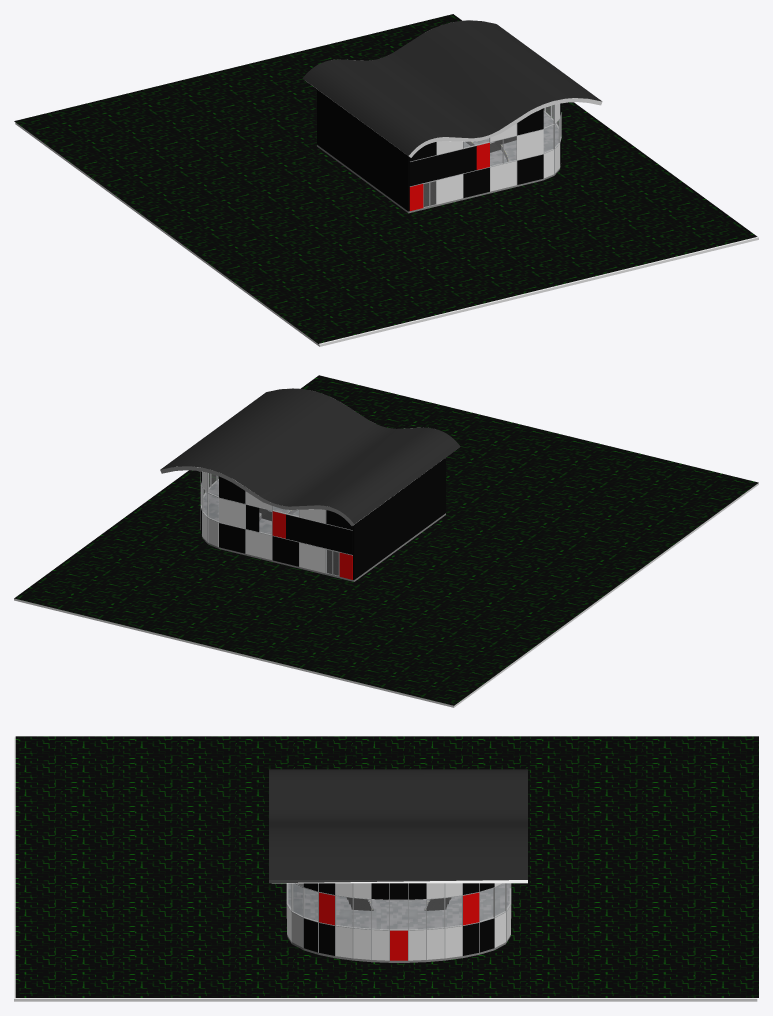
3 renders of one model, top to bottom at view 1: azimuth 30°, elevation 25°; view 2: azimuth 150°, elevation 25°; view 3: azimuth 270°, elevation 25°, orthographic. The views are drawn at different scales.
Parts seen in each view (by area): view 1: plato.001_265, Roofs_273, Curtain Panels_113, Walls_287, plato_264, Curtain Wall Mullions_259, Floors_266, Runs_279; view 2: plato.001_265, Roofs_273, Curtain Panels_113, Walls_287, plato_264, Curtain Wall Mullions_259, Floors_266; view 3: plato.001_265, Roofs_273, Curtain Panels_113, Landings_268, plato_264, Curtain Wall Mullions_259, Runs_279, Floors_266, Mass_271.
Part boxes in pixels (x1=…): plato.001_265: x1=14, y1=14, x2=757, y2=343; Roofs_273: x1=302, y1=20, x2=602, y2=157; Curtain Panels_113: x1=409, y1=103, x2=561, y2=210; Walls_287: x1=317, y1=89, x2=409, y2=211; plato_264: x1=15, y1=15, x2=758, y2=346; Curtain Wall Mullions_259: x1=409, y1=104, x2=561, y2=198; Floors_266: x1=317, y1=145, x2=561, y2=213; Runs_279: x1=463, y1=138, x2=516, y2=166; plato.001_265: x1=14, y1=375, x2=758, y2=705; Roofs_273: x1=160, y1=388, x2=460, y2=525; Curtain Panels_113: x1=201, y1=471, x2=352, y2=579; Walls_287: x1=353, y1=458, x2=445, y2=579; plato_264: x1=14, y1=375, x2=758, y2=707; Curtain Wall Mullions_259: x1=200, y1=472, x2=352, y2=576; Floors_266: x1=202, y1=513, x2=445, y2=581; plato.001_265: x1=15, y1=736, x2=758, y2=997; Roofs_273: x1=269, y1=769, x2=527, y2=883; Curtain Panels_113: x1=287, y1=883, x2=510, y2=960; Landings_268: x1=288, y1=896, x2=509, y2=929; plato_264: x1=14, y1=737, x2=757, y2=1001; Curtain Wall Mullions_259: x1=286, y1=883, x2=511, y2=960; Runs_279: x1=288, y1=883, x2=509, y2=910; Floors_266: x1=287, y1=935, x2=510, y2=962; Mass_271: x1=346, y1=897, x2=451, y2=910.
Size of the model in its own units: 50.08 by 9.46 by 60.13.
18 materials, 4 textured.
